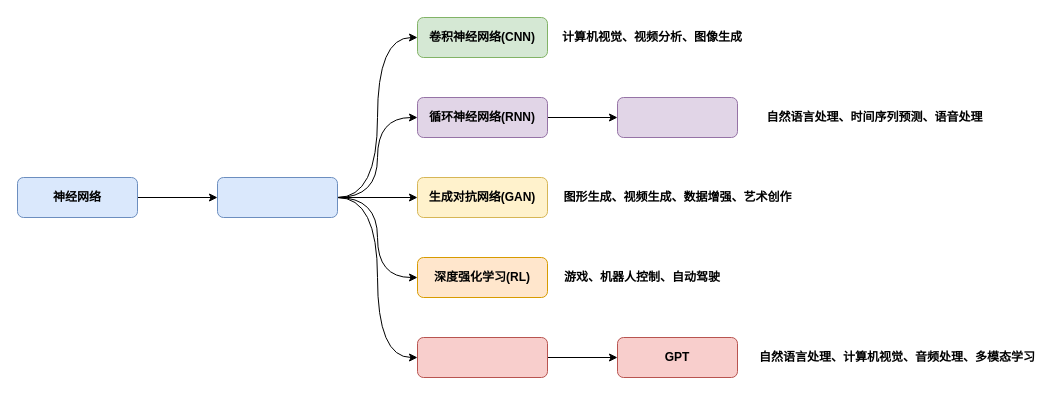
Image size: 1055x395. Some labels were removed from this diagram. The centre of each missing label's shape, as x and y in pixels:
大模型(Transformer): [482,357]
深度学习: [277,197]
长短期记忆(LSTM): [677,117]
